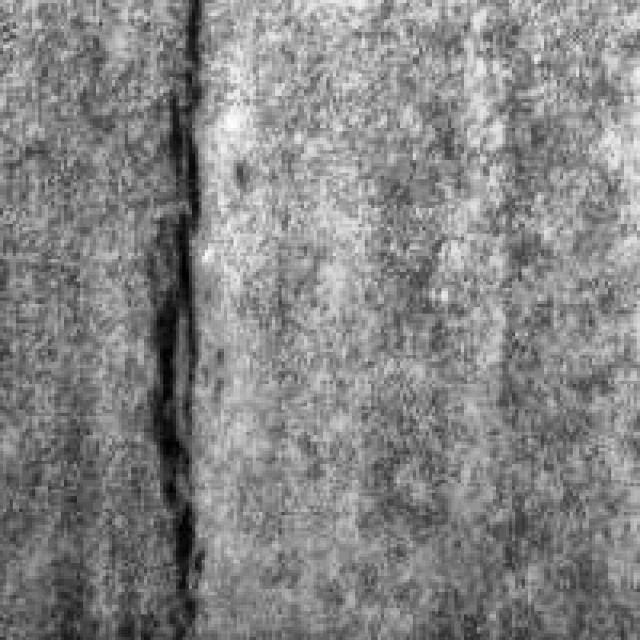Patches: (132, 90, 215, 628), (150, 0, 208, 224)
